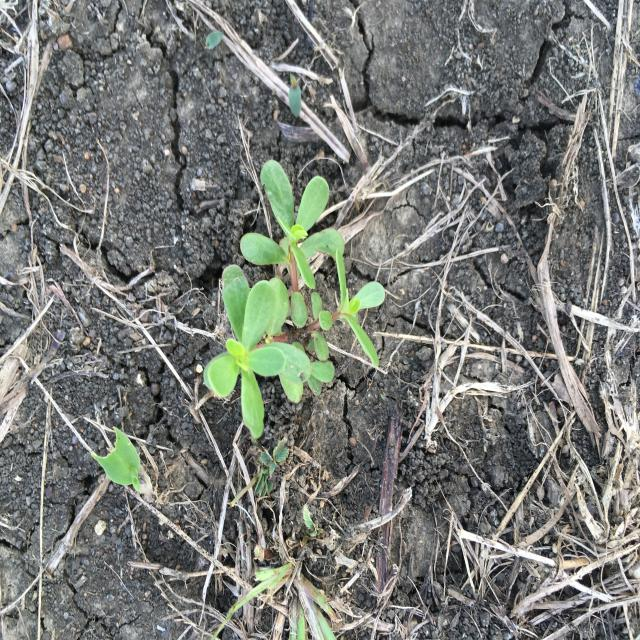Purslane: (201, 158, 388, 443)
